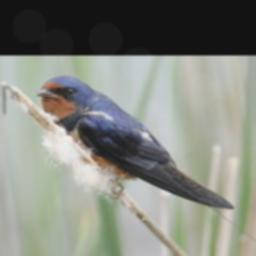Swallow: (34, 74, 235, 210)
